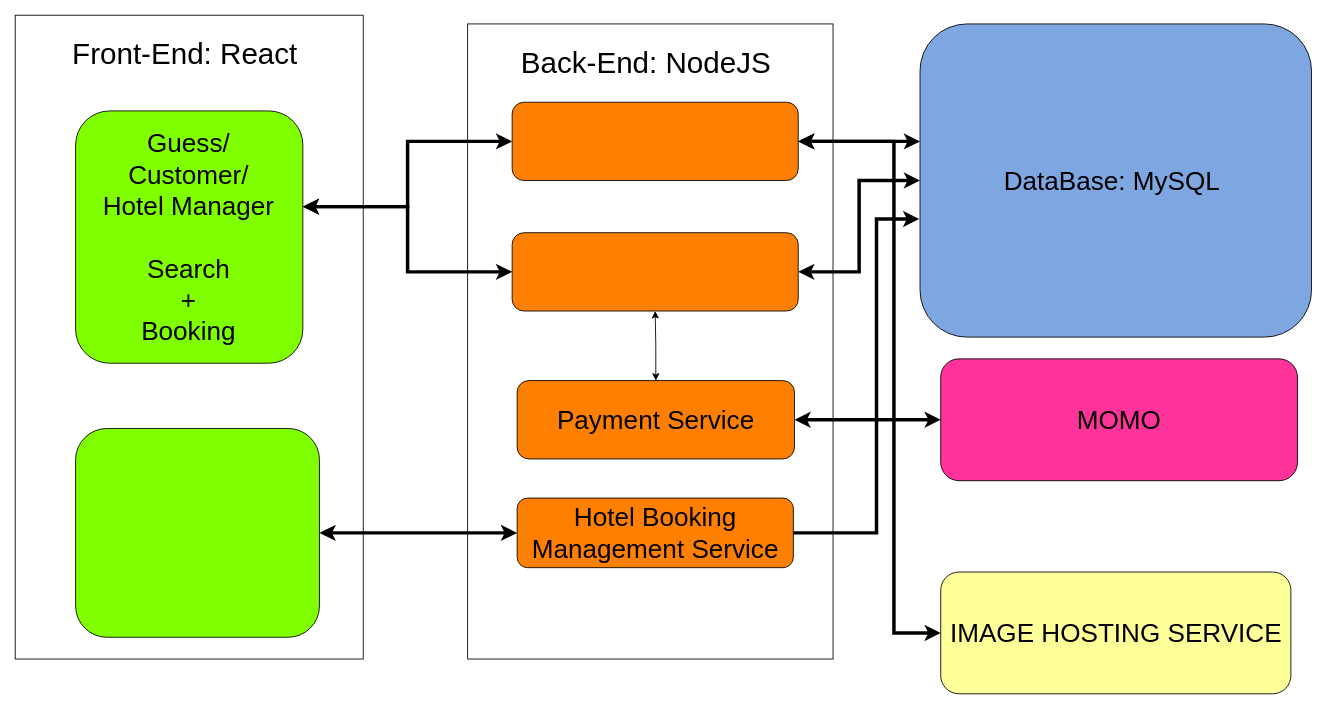
The diagram is 1327 pixels wide and 709 high, and some of its shapes have lost their labels. The shapes that lost their labels are listed below. From the top down, each one's box as (x1, y1, x2, y2) in pixels, then its label:
(511, 101, 798, 181): Search Service
(511, 232, 798, 311): Booking Service
(75, 428, 319, 637): Customer/ Hotel Manager View Booking
